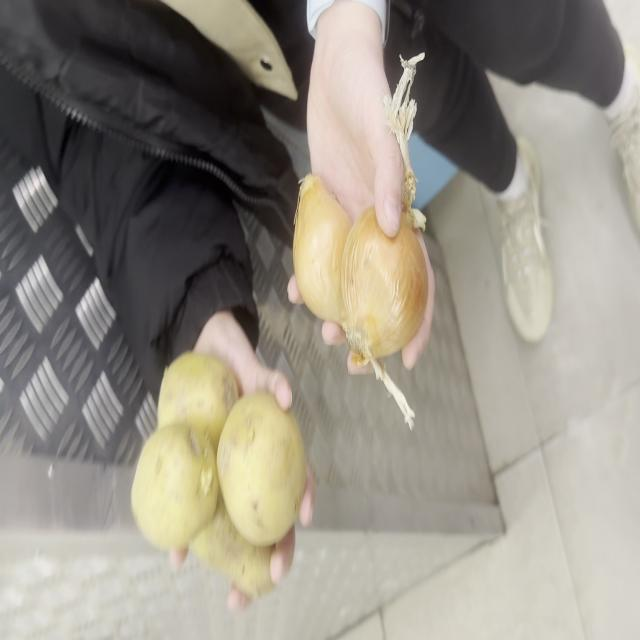potato: (216, 393, 306, 547), (131, 424, 219, 549), (190, 492, 274, 598), (158, 353, 239, 452)
